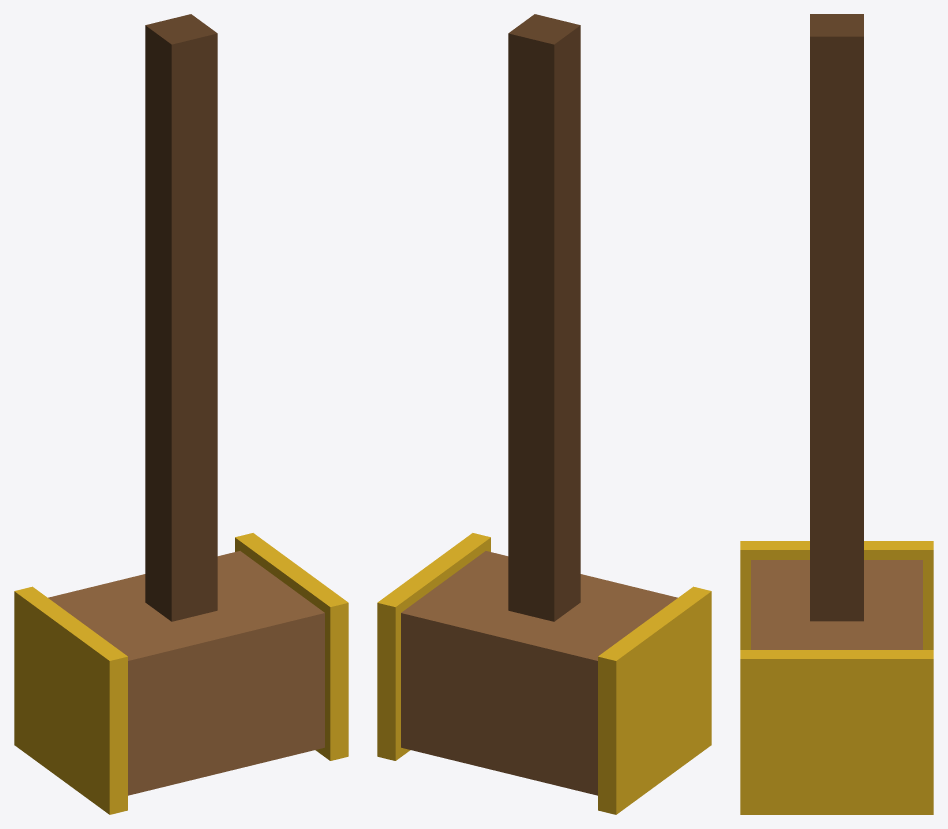
Rendered from gavel.glb.
3 views of the same model, side by side, from view 1: azimuth 30°, elevation 25°; view 2: azimuth 150°, elevation 25°; view 3: azimuth 270°, elevation 25° (orthographic).
Visible parts, largest first — view 1: gavel; view 2: gavel; view 3: gavel.
Boxes of the visible parts, bbox=[...] form: gavel: bbox=[14, 14, 348, 814]; gavel: bbox=[377, 14, 711, 814]; gavel: bbox=[740, 14, 933, 814].
Bounding box in the file's own units: 0.13 × 0.375 × 0.09.
1 material, 1 textured.
